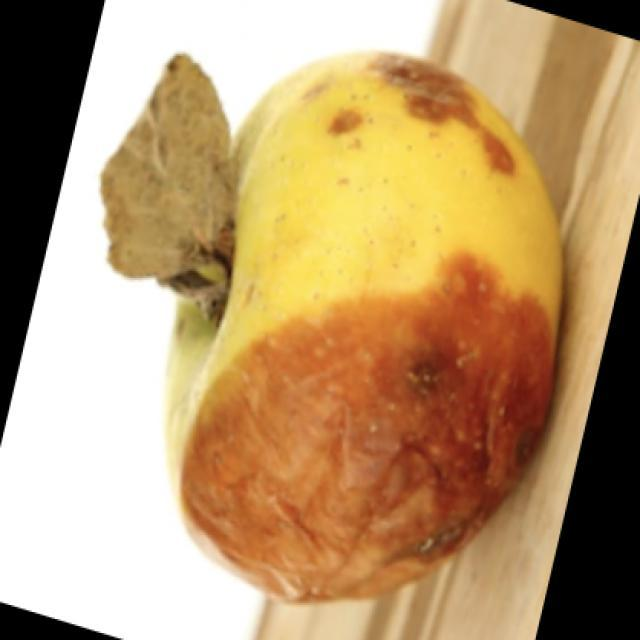Rotten: (175, 78, 550, 600)
